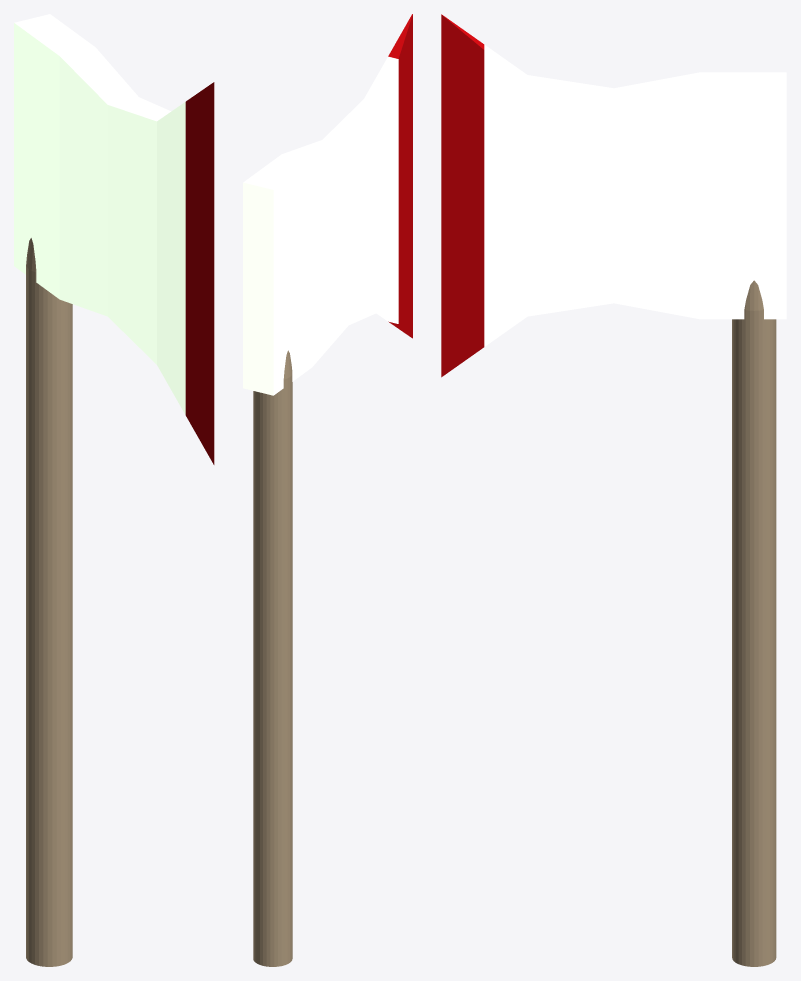
The model's file is axe.fbx.
The picture shows the model from 3 angles, left to right: view 1: azimuth 30°, elevation 25°; view 2: azimuth 150°, elevation 25°; view 3: azimuth 270°, elevation 25°; orthographic projection. The views are drawn at different scales.
Parts seen in each view (by area): view 1: Cube; view 2: Cube; view 3: Cube.
Part boxes in pixels (x1,y1,x2,y2): Cube: (14, 14, 214, 966); Cube: (243, 14, 412, 966); Cube: (441, 14, 786, 966).
Bounding box in the file's own units: 15.3 × 360 × 120.
